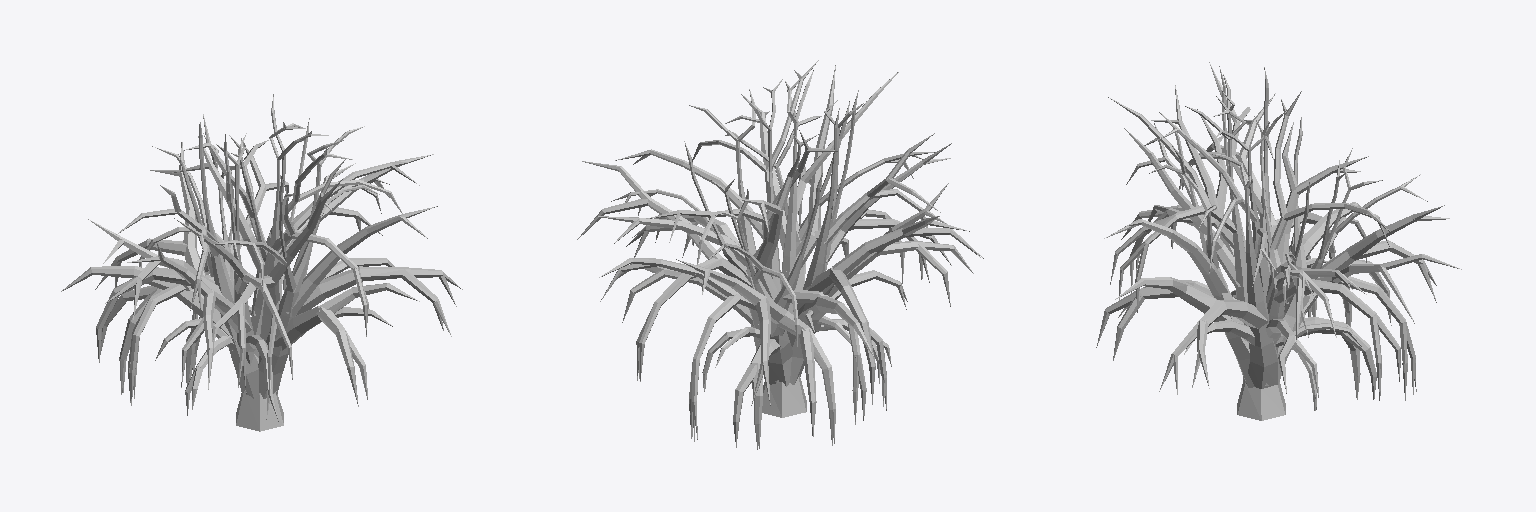
The model's file is tree16.obj.
The picture shows the model from 3 angles: view 1: azimuth 30°, elevation 25°; view 2: azimuth 150°, elevation 25°; view 3: azimuth 270°, elevation 25°; orthographic projection.
Visible parts, largest first — view 1: tree; view 2: tree; view 3: tree.
Part boxes in pixels (x1,y1,x2,y2): tree: (61, 94, 462, 431); tree: (577, 60, 983, 449); tree: (1096, 62, 1461, 420).
Bounding box in the file's own units: 6.63 × 5.5 × 5.7.